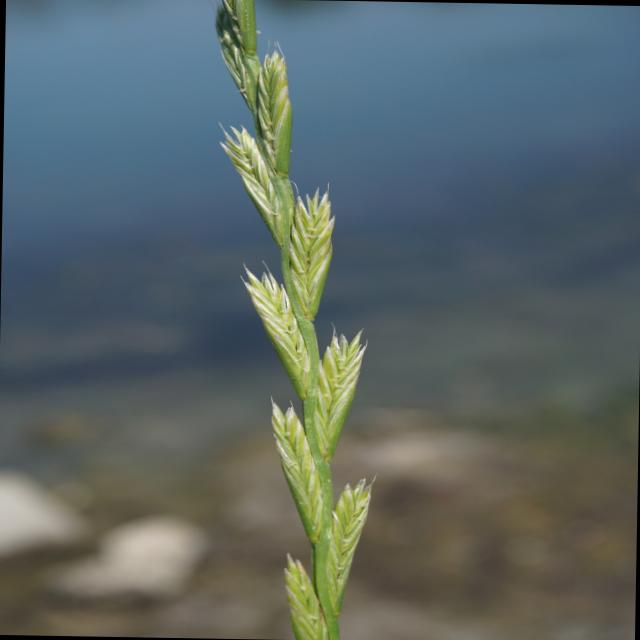Lolium: (200, 0, 388, 639)
